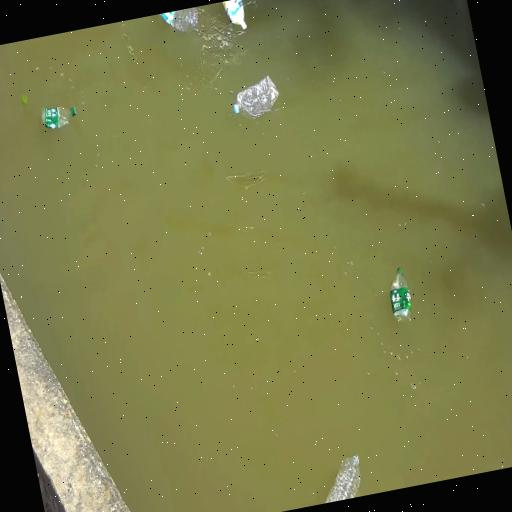plastic: (232, 76, 278, 118), (325, 456, 360, 502), (389, 262, 412, 328), (160, 7, 197, 32), (222, 0, 248, 33), (41, 107, 75, 129)
